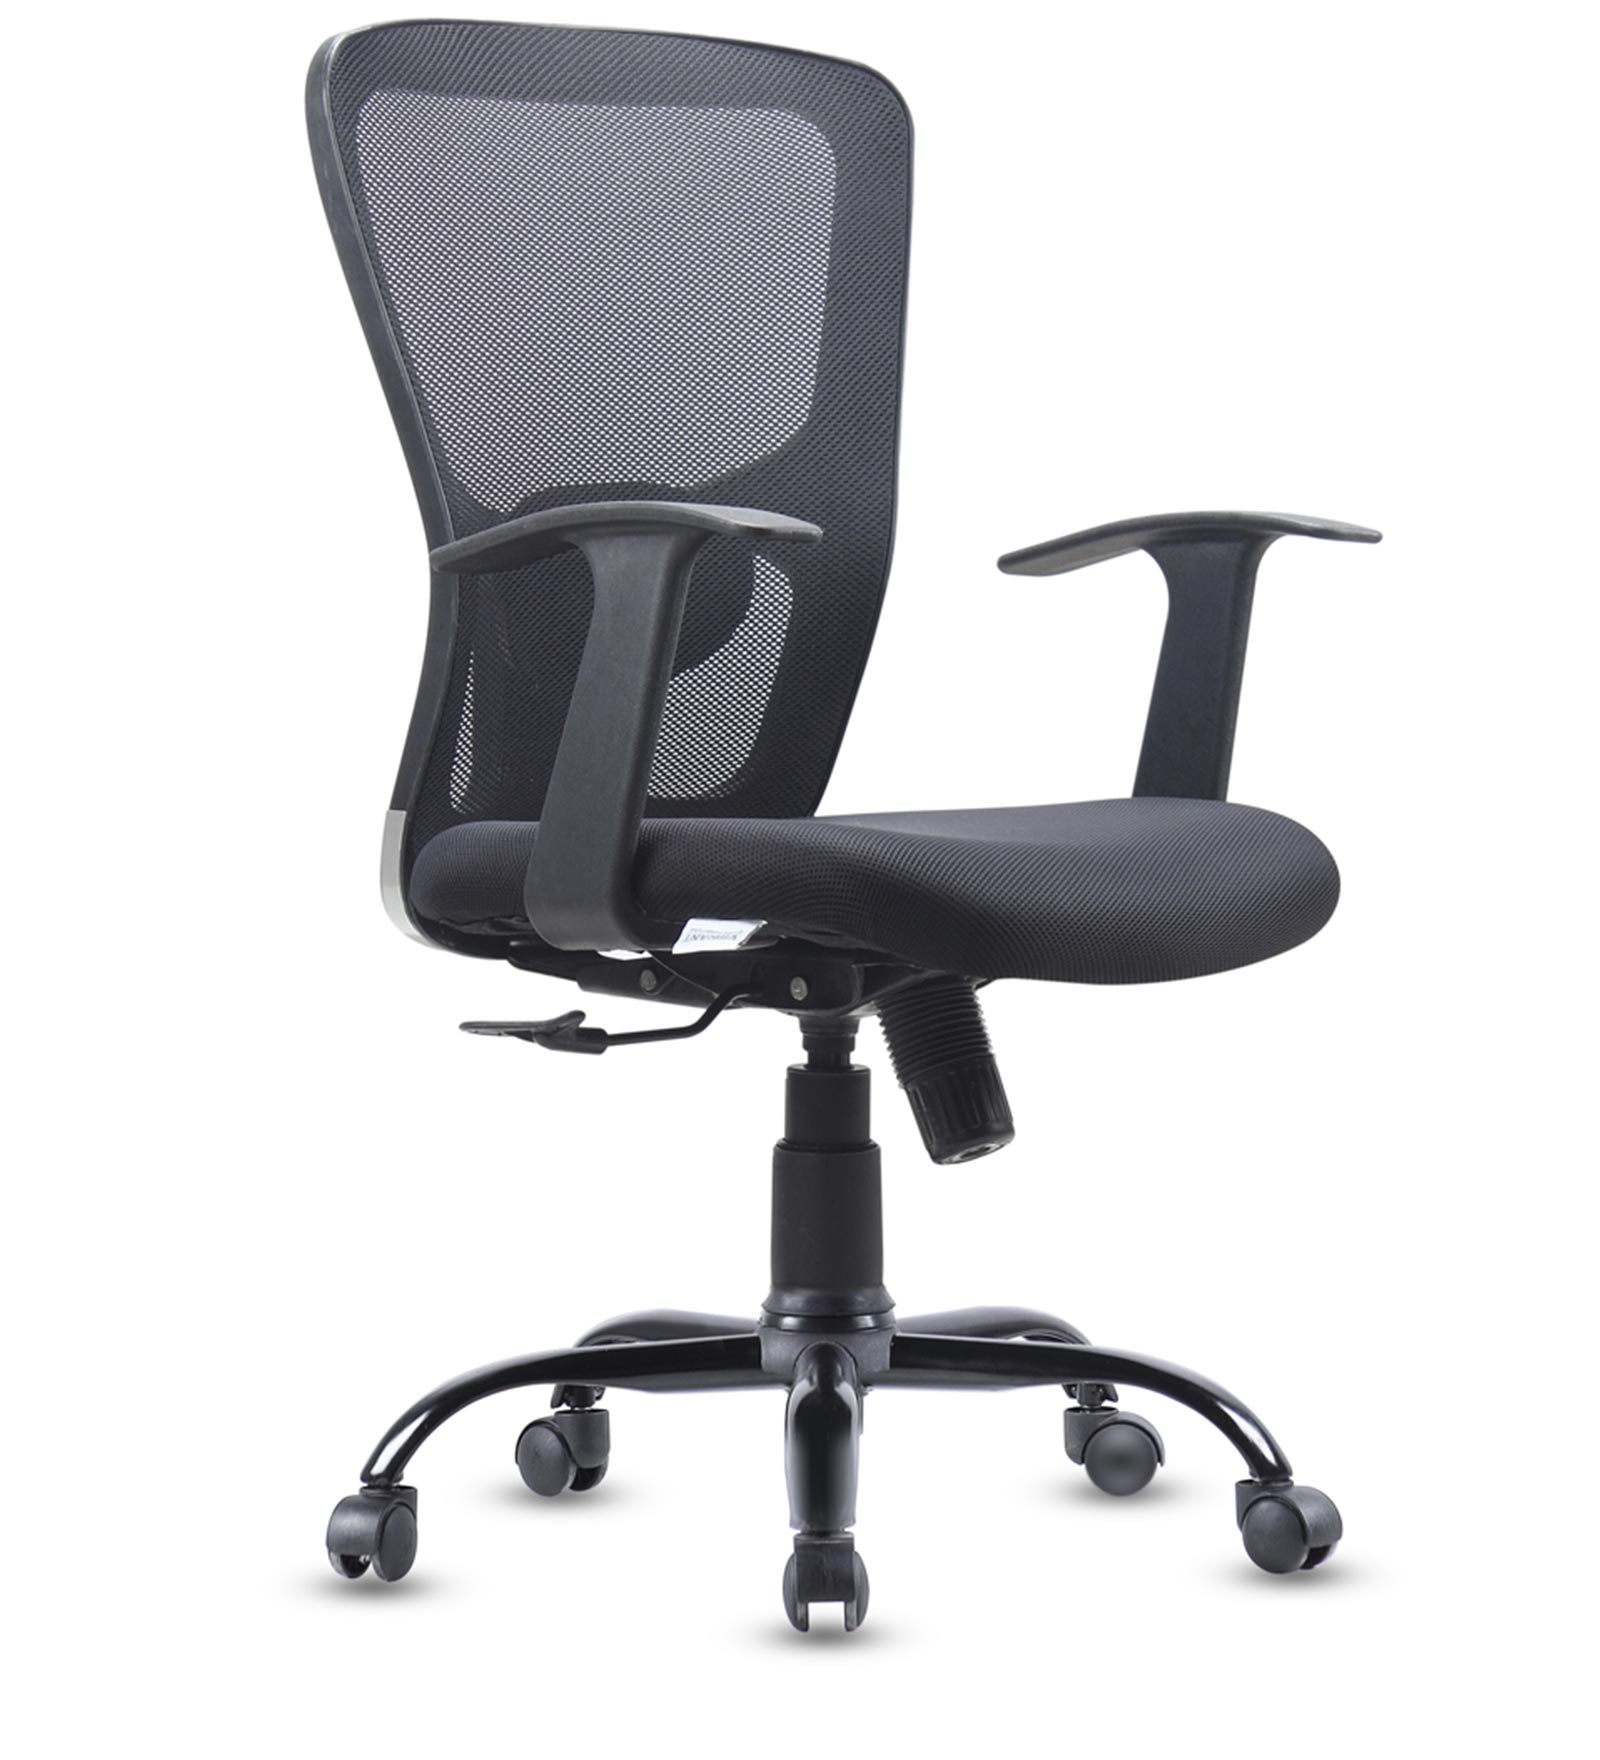Smart Medium back Ergonomic Chairs by VOF: (225, 18, 1462, 1643)
